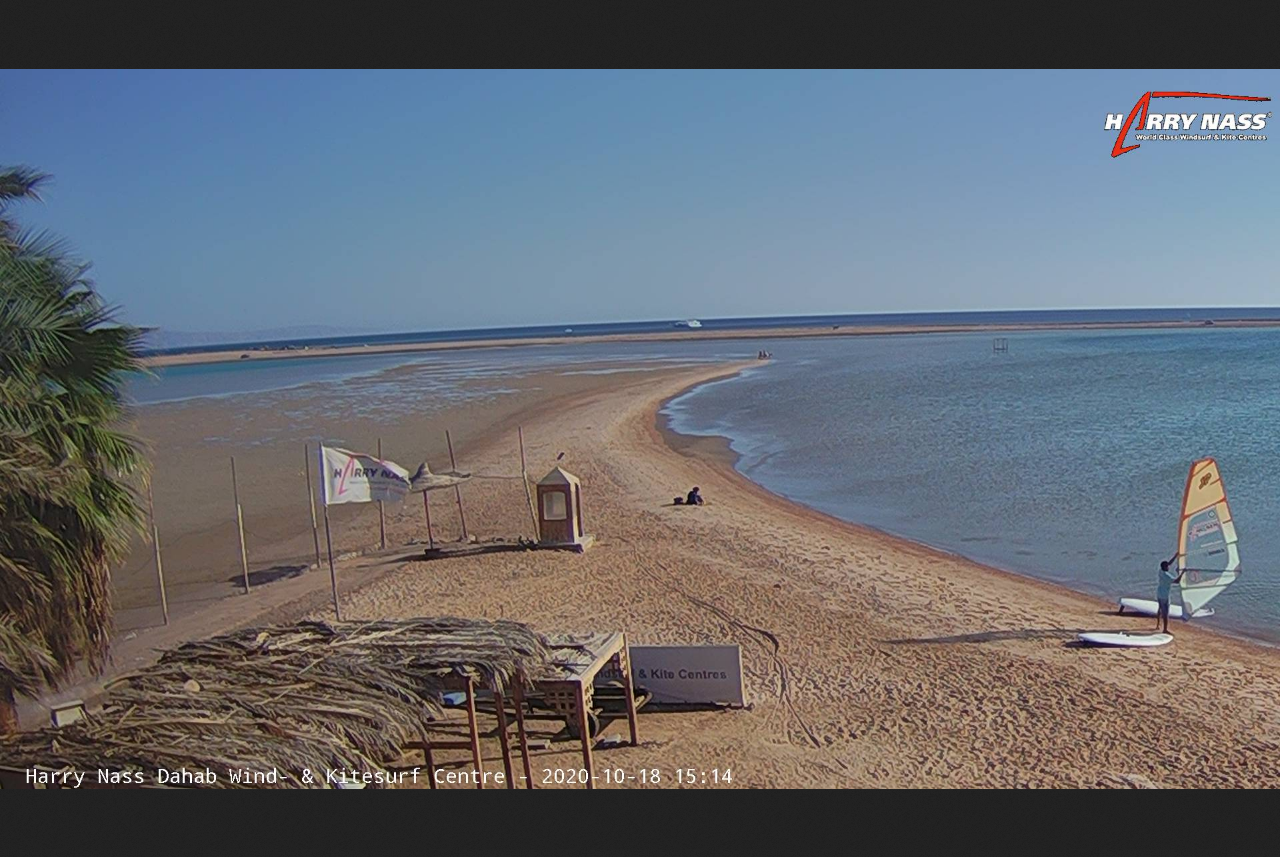yes: (313, 437, 421, 503)
